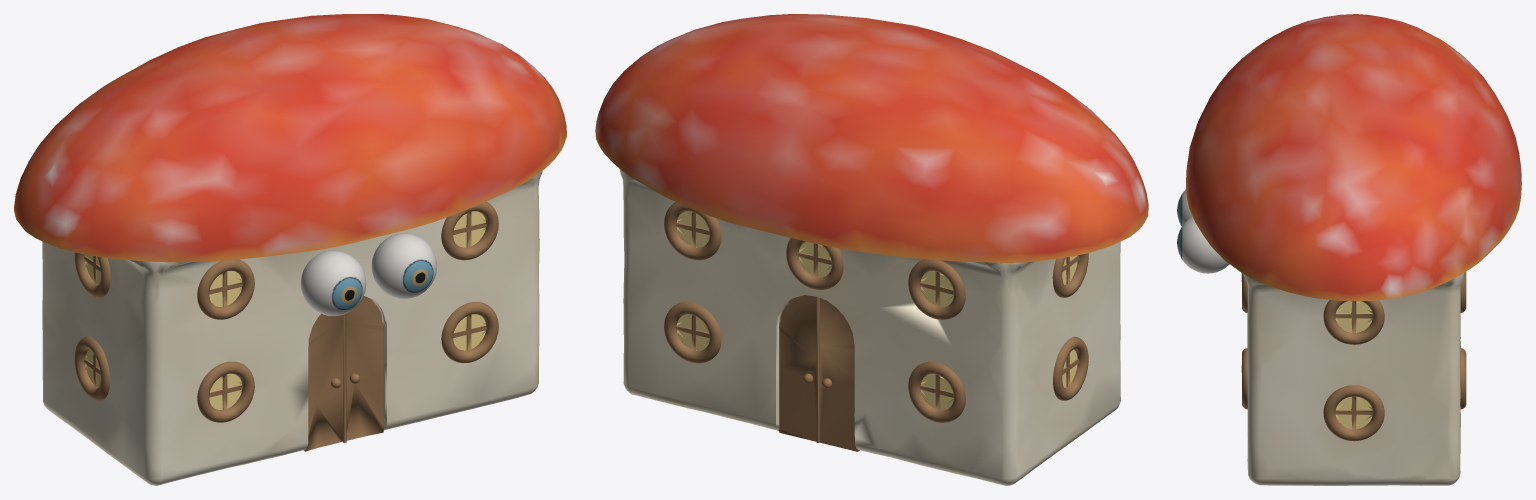
File: monopoly-hotel.glb
3 renders of one model, left to right at view 1: azimuth 30°, elevation 25°; view 2: azimuth 150°, elevation 25°; view 3: azimuth 270°, elevation 25°, orthographic. The views are drawn at different scales.
Parts seen in each view (by area): view 1: body, eye.0, eye.1, porthole_window.1, porthole_window.0, porthole_window.5, porthole_window.4, porthole_window.10, porthole_window.12; view 2: body, porthole_window.3, porthole_window.2, porthole_window.7, porthole_window.6, porthole_window.8, porthole_window.10, porthole_window.12; view 3: body, porthole_window.9, porthole_window.11, eye.0, porthole_window.2.
Boxes of the visible parts, x1,y1,x2,y2 form: body: [14, 14, 566, 485]; eye.0: [371, 233, 436, 298]; eye.1: [300, 250, 366, 315]; porthole_window.1: [197, 361, 254, 422]; porthole_window.0: [441, 302, 498, 363]; porthole_window.5: [197, 259, 254, 319]; porthole_window.4: [441, 201, 498, 260]; porthole_window.10: [74, 336, 110, 400]; porthole_window.12: [74, 252, 110, 297]; body: [595, 14, 1148, 485]; porthole_window.3: [908, 361, 965, 422]; porthole_window.2: [664, 302, 721, 363]; porthole_window.7: [908, 259, 965, 319]; porthole_window.6: [664, 202, 721, 260]; porthole_window.8: [786, 238, 843, 289]; porthole_window.10: [1053, 336, 1088, 400]; porthole_window.12: [1052, 253, 1088, 297]; body: [1186, 14, 1521, 485]; porthole_window.9: [1323, 385, 1384, 441]; porthole_window.11: [1323, 300, 1384, 344]; eye.0: [1177, 216, 1229, 273]; porthole_window.2: [1460, 348, 1466, 409].
Bounding box in the file's own units: 6.64 × 4.4 × 4.05.
